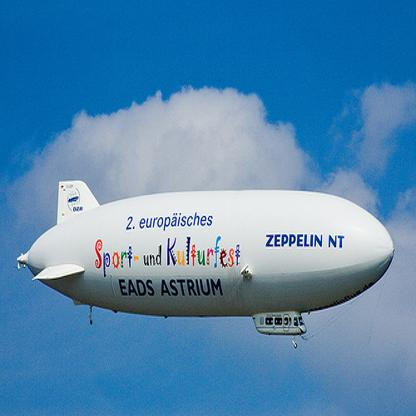Airship: (15, 176, 396, 340)
